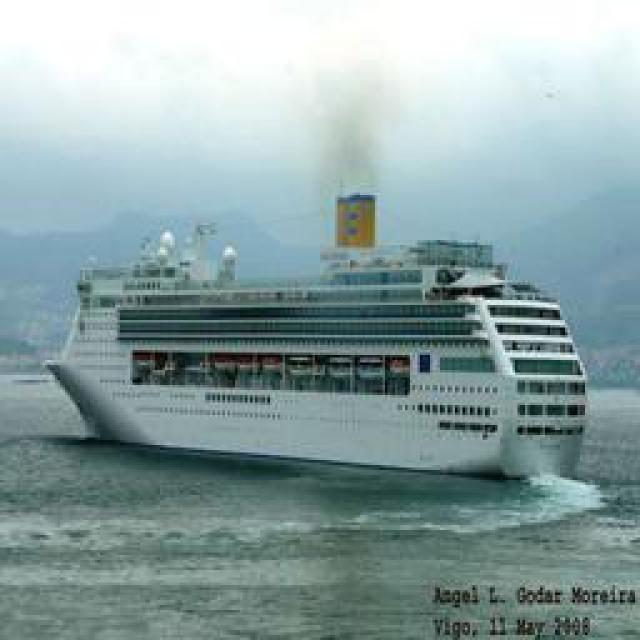Ship: (53, 229, 591, 484)
